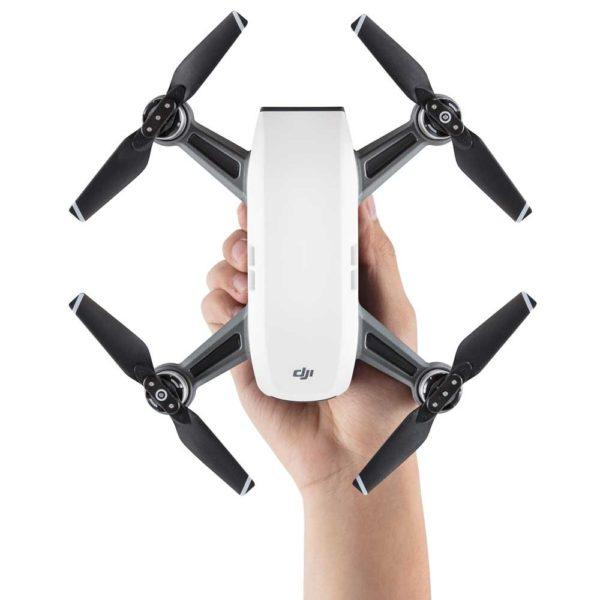drone: (41, 29, 569, 465)
